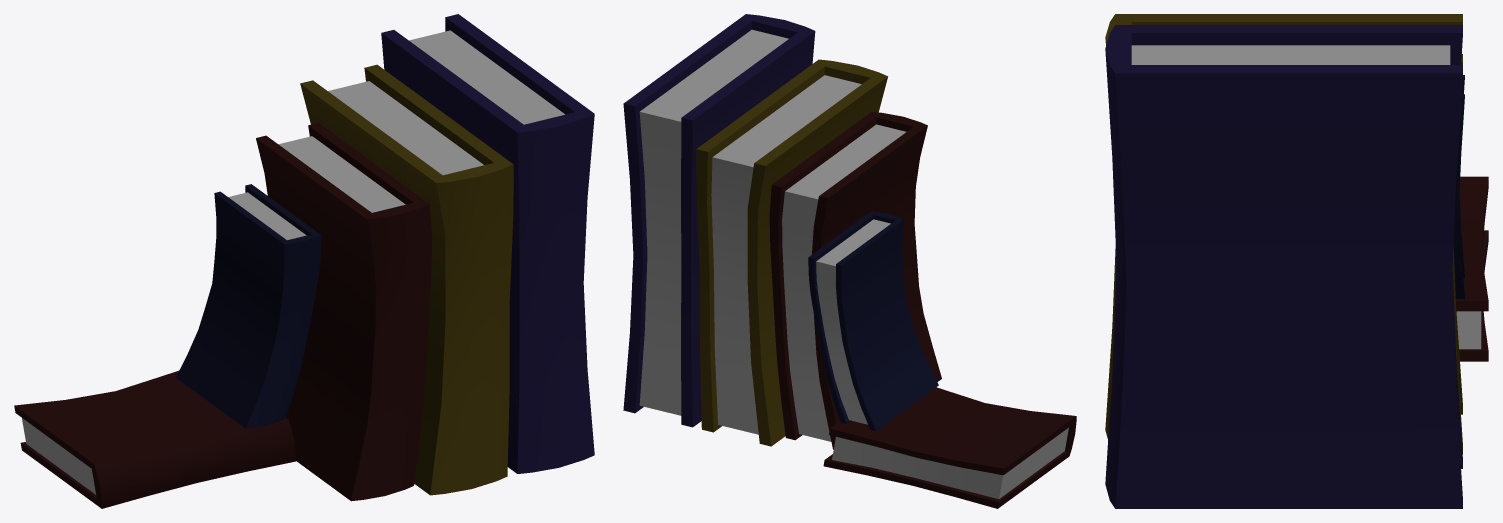
Rendered from SM_Books.fbx.
3 renders of one model, left to right at view 1: azimuth 30°, elevation 25°; view 2: azimuth 150°, elevation 25°; view 3: azimuth 270°, elevation 25°, orthographic. The views are drawn at different scales.
Visible parts, largest first — view 1: SM_Books; view 2: SM_Books; view 3: SM_Books.
Boxes of the visible parts, x1,y1,x2,y2 form: SM_Books: [14, 14, 594, 508]; SM_Books: [623, 14, 1076, 508]; SM_Books: [1105, 14, 1488, 508].
Size of the model in its own units: 2400 by 1438 by 1804.
